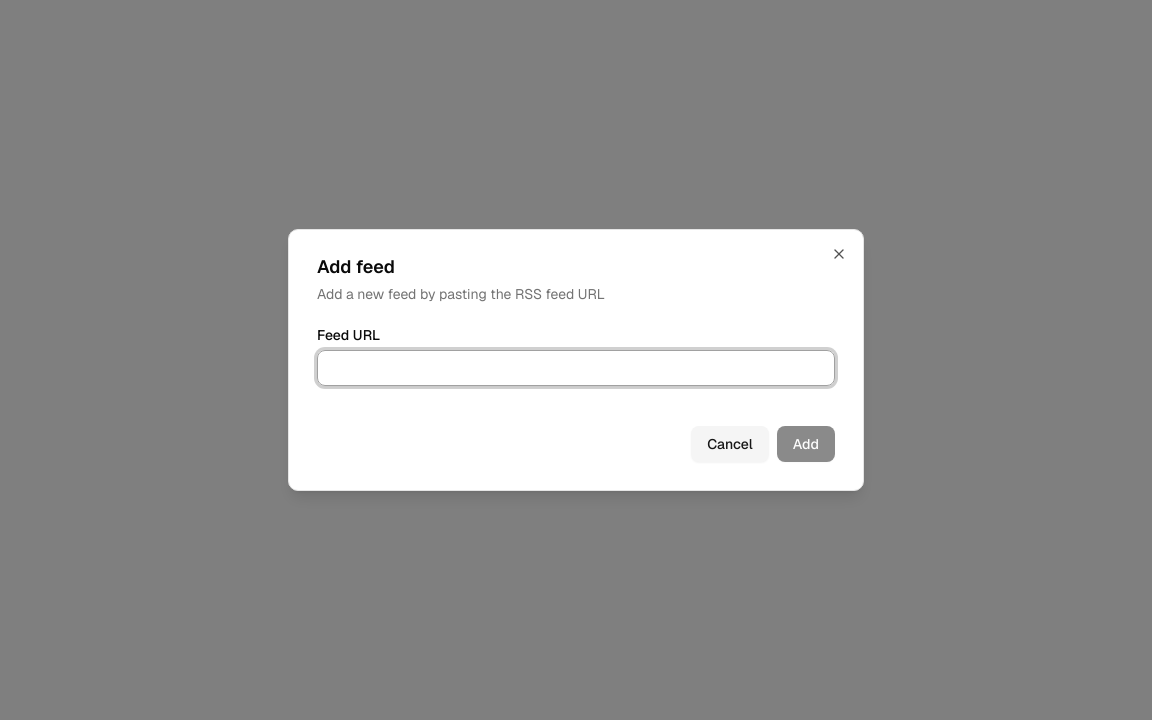
Test: CreateFeedDialog › Should enable confirm button when form is valid
The image size is (1152, 720).
Type "https://www.nasa.gov/rss/dyn/breaking_news.rss" into the field labelled "Feed URL" at [576, 368], box [317,350,835,386]
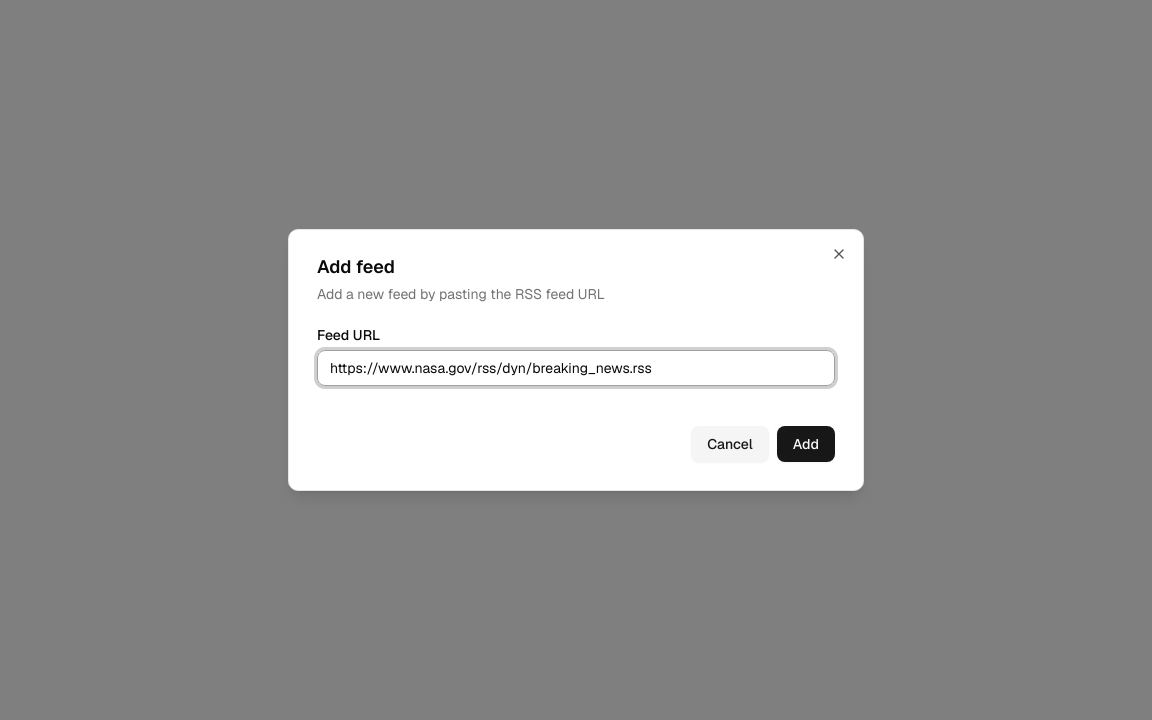
Check: the button "Add" is enabled, box [777,426,835,462]
